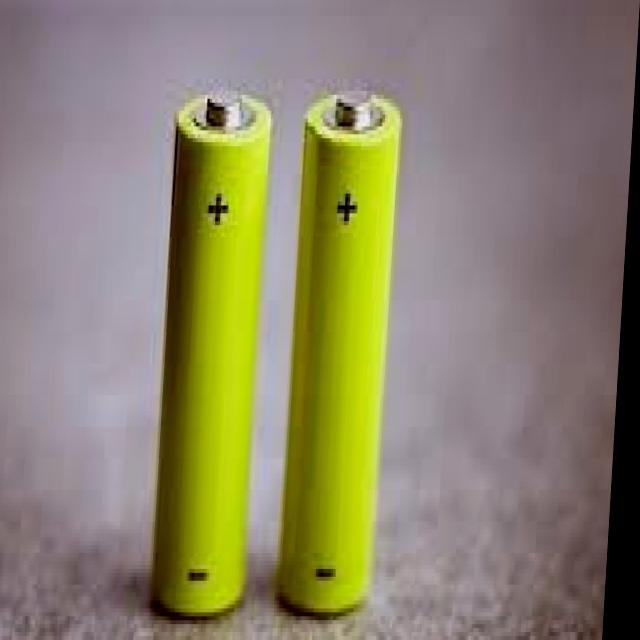B3: (134, 48, 427, 640)
